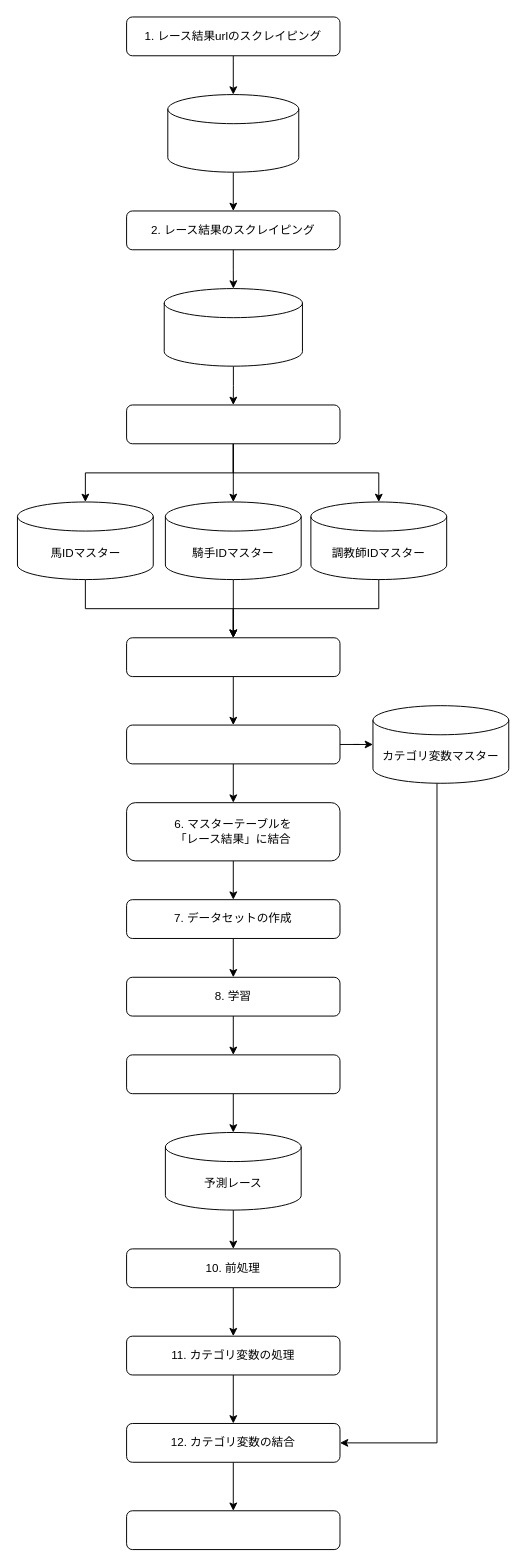
The diagram is 526 pixels wide and 1567 high, and some of its shapes have lost their labels. Here are the shapes that lost their labels. From the top down, the centre of each, then its label:
(233,133): レース結果url
(232,327): レース結果
(233,424): 3. マスターテーブル作成
(233,657): 4. 前処理
(233,744): 5. カテゴリ変数の処理
(233,1074): 9. 予測レースのスクレイピング
(233,1530): 13. 予測結果表示
